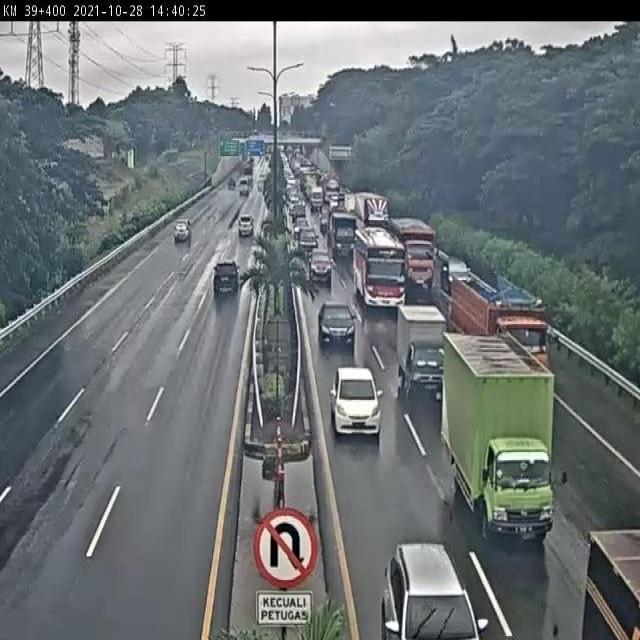big bus: (355, 223, 405, 309)
car: (382, 544, 487, 640), (329, 367, 381, 440), (318, 296, 353, 341), (210, 259, 242, 300), (442, 256, 469, 289), (309, 243, 334, 273), (171, 222, 196, 250), (236, 214, 259, 242)
mid truck: (449, 271, 549, 381), (393, 216, 437, 292)
small truck: (443, 335, 558, 548), (397, 305, 446, 392), (330, 209, 359, 256)
